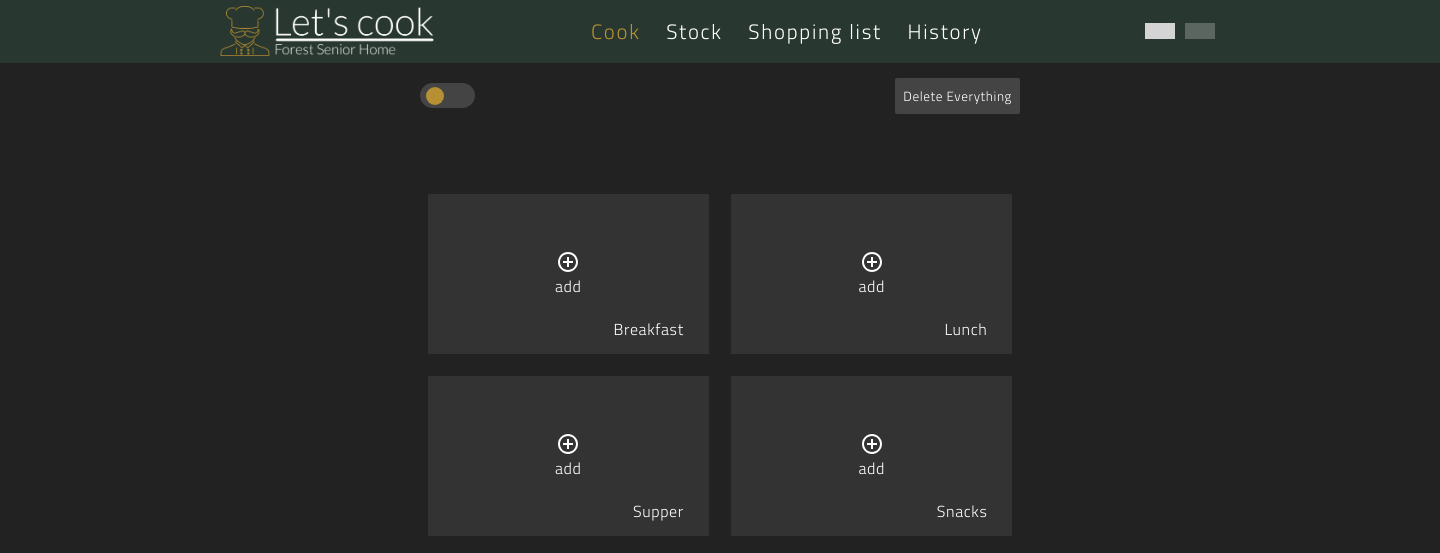
Test case: main pages renders › Shopping List component › render Shopping List component after click in Navbar ShoppingList
The image size is (1440, 553).
Click the link "Shopping list". click: {"x": 815, "y": 31}
box: [748, 15, 882, 47]
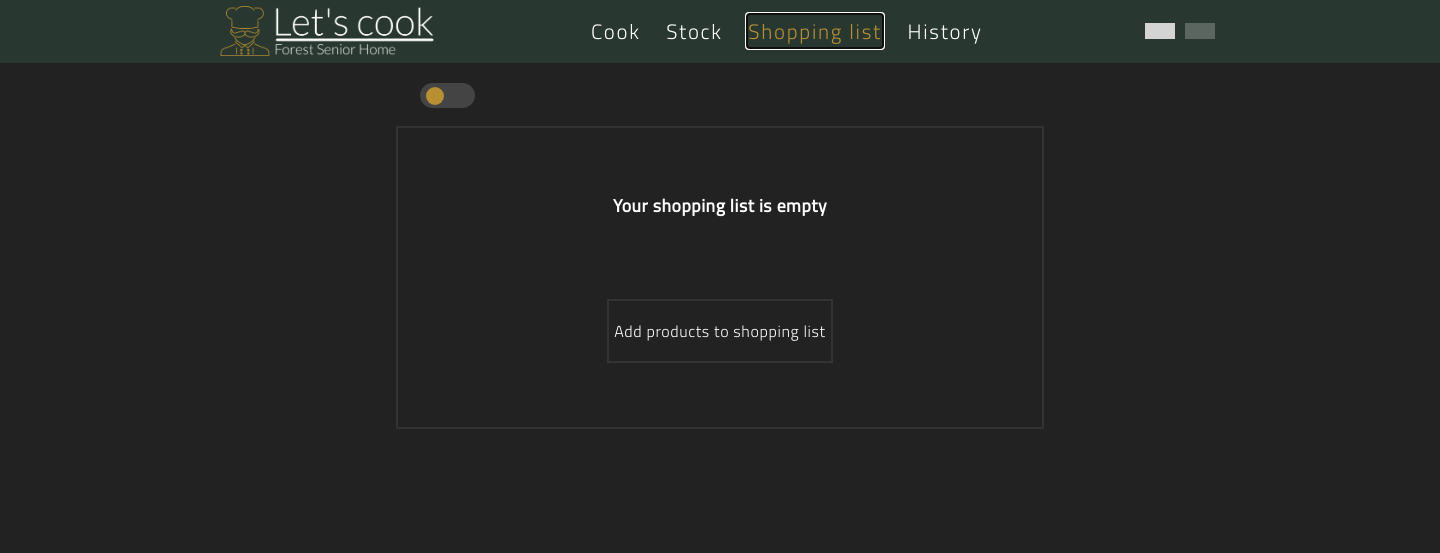
Expected: the element with class "shoppingList-container" is shown, [0, 126, 1439, 429]
